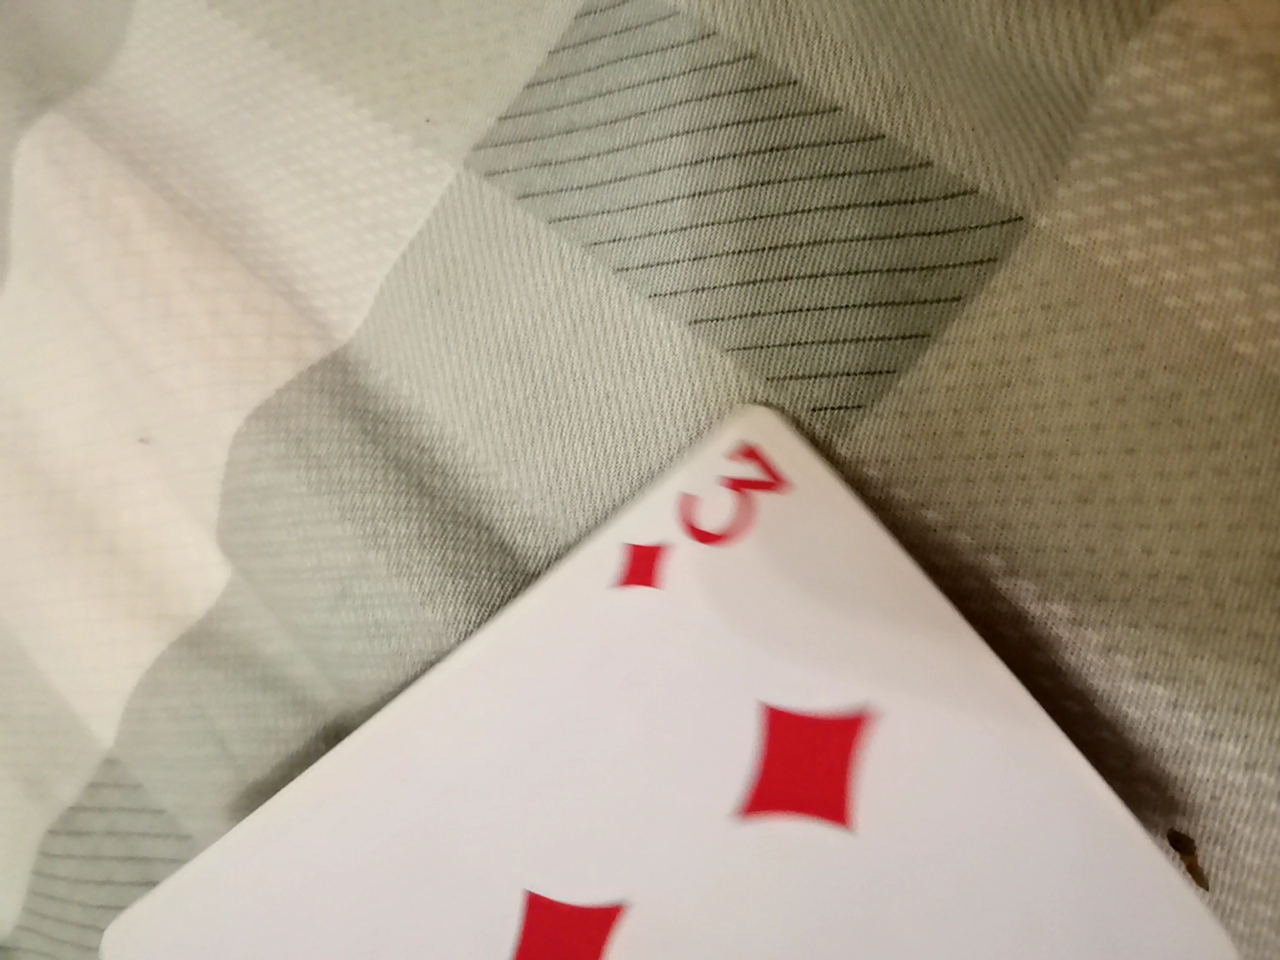fk 3: (5, 396, 1266, 956)
